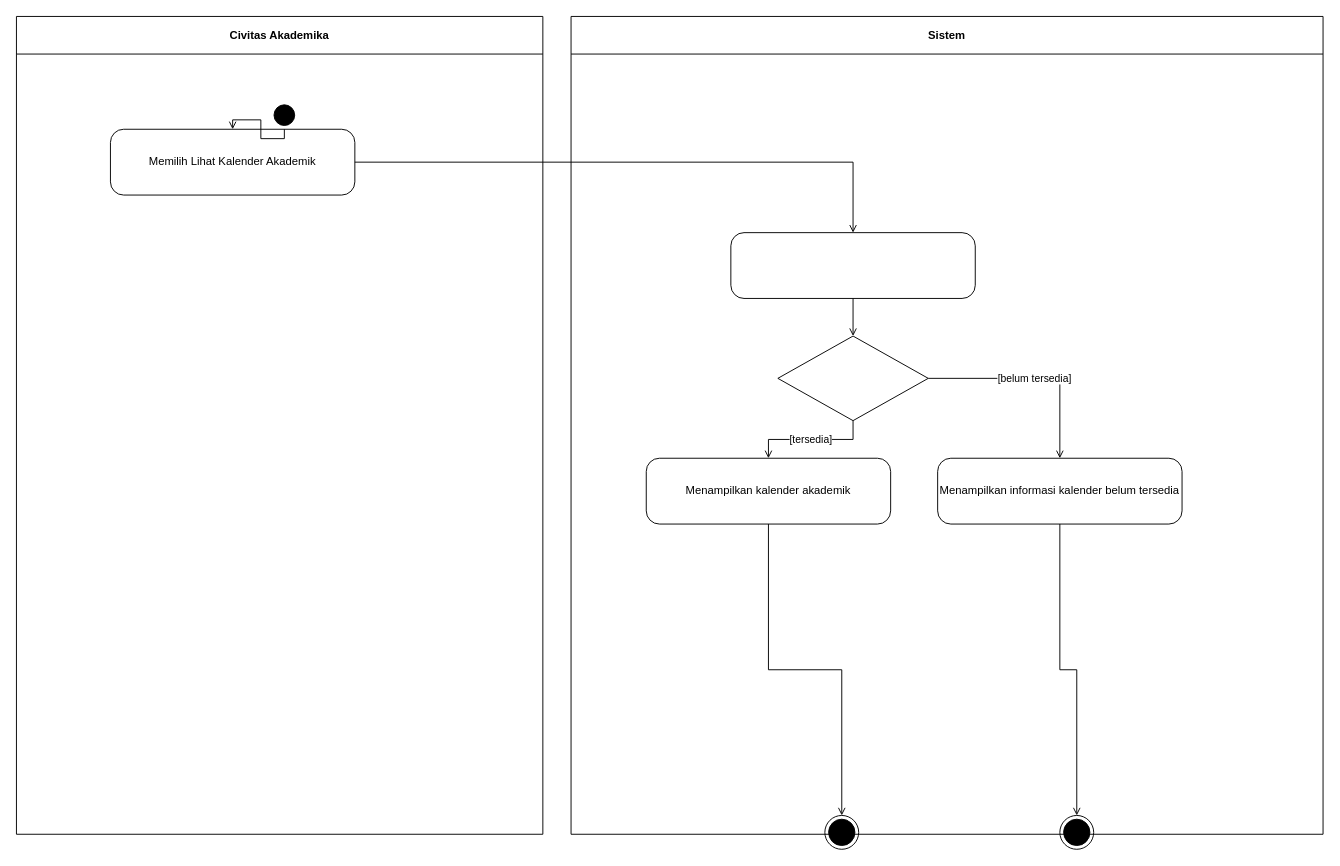
The diagram is 1340 pixels wide and 866 high, and some of its shapes have lost their labels. Here are the shapes that lost their labels. From the top down, the box of each, then its label:
(730, 232, 975, 298): Mencari kalender akademik
(777, 335, 928, 421): Kalender tersedia?
